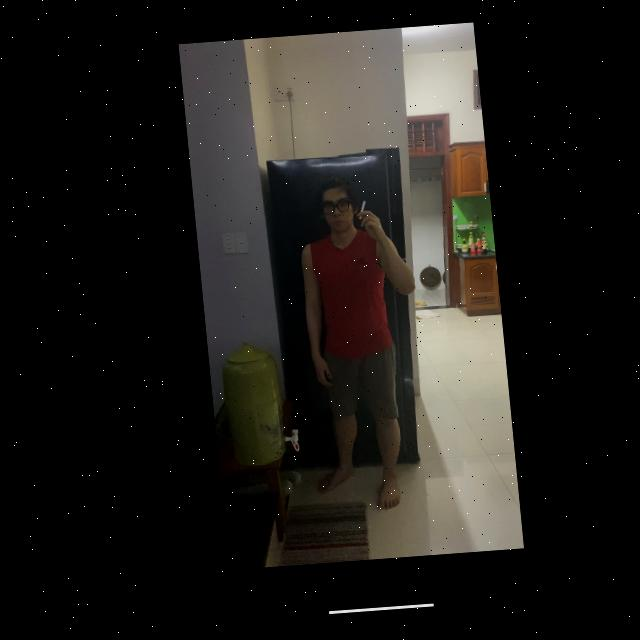cigarette: (352, 206, 361, 224)
